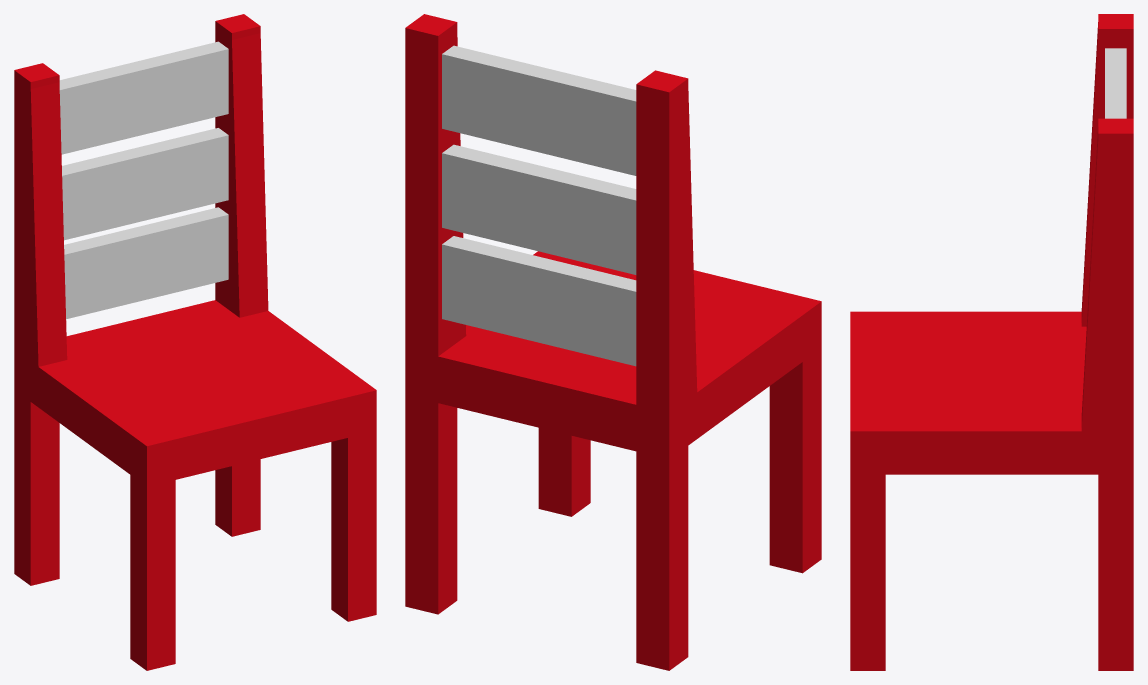
The model's file is chair_red.glb.
3 views of the same model, side by side, from view 1: azimuth 30°, elevation 25°; view 2: azimuth 150°, elevation 25°; view 3: azimuth 270°, elevation 25° (orthographic). The views are drawn at different scales.
Parts seen in each view (by area): view 1: Cube.001, Cube, Cube.003, Cube.002; view 2: Cube.001, Cube.002, Cube, Cube.003; view 3: Cube.001, Cube.
Part boxes in pixels (bbox=[...]): Cube.001: bbox=[14, 14, 376, 670]; Cube: bbox=[59, 41, 228, 154]; Cube.003: bbox=[62, 128, 228, 240]; Cube.002: bbox=[64, 207, 228, 319]; Cube.001: bbox=[405, 14, 821, 670]; Cube.002: bbox=[442, 236, 636, 366]; Cube: bbox=[442, 45, 636, 175]; Cube.003: bbox=[442, 144, 636, 274]; Cube.001: bbox=[850, 14, 1133, 670]; Cube: bbox=[1105, 48, 1126, 118].
Size of the model in its own units: 2.34 by 4.9 by 2.34.
